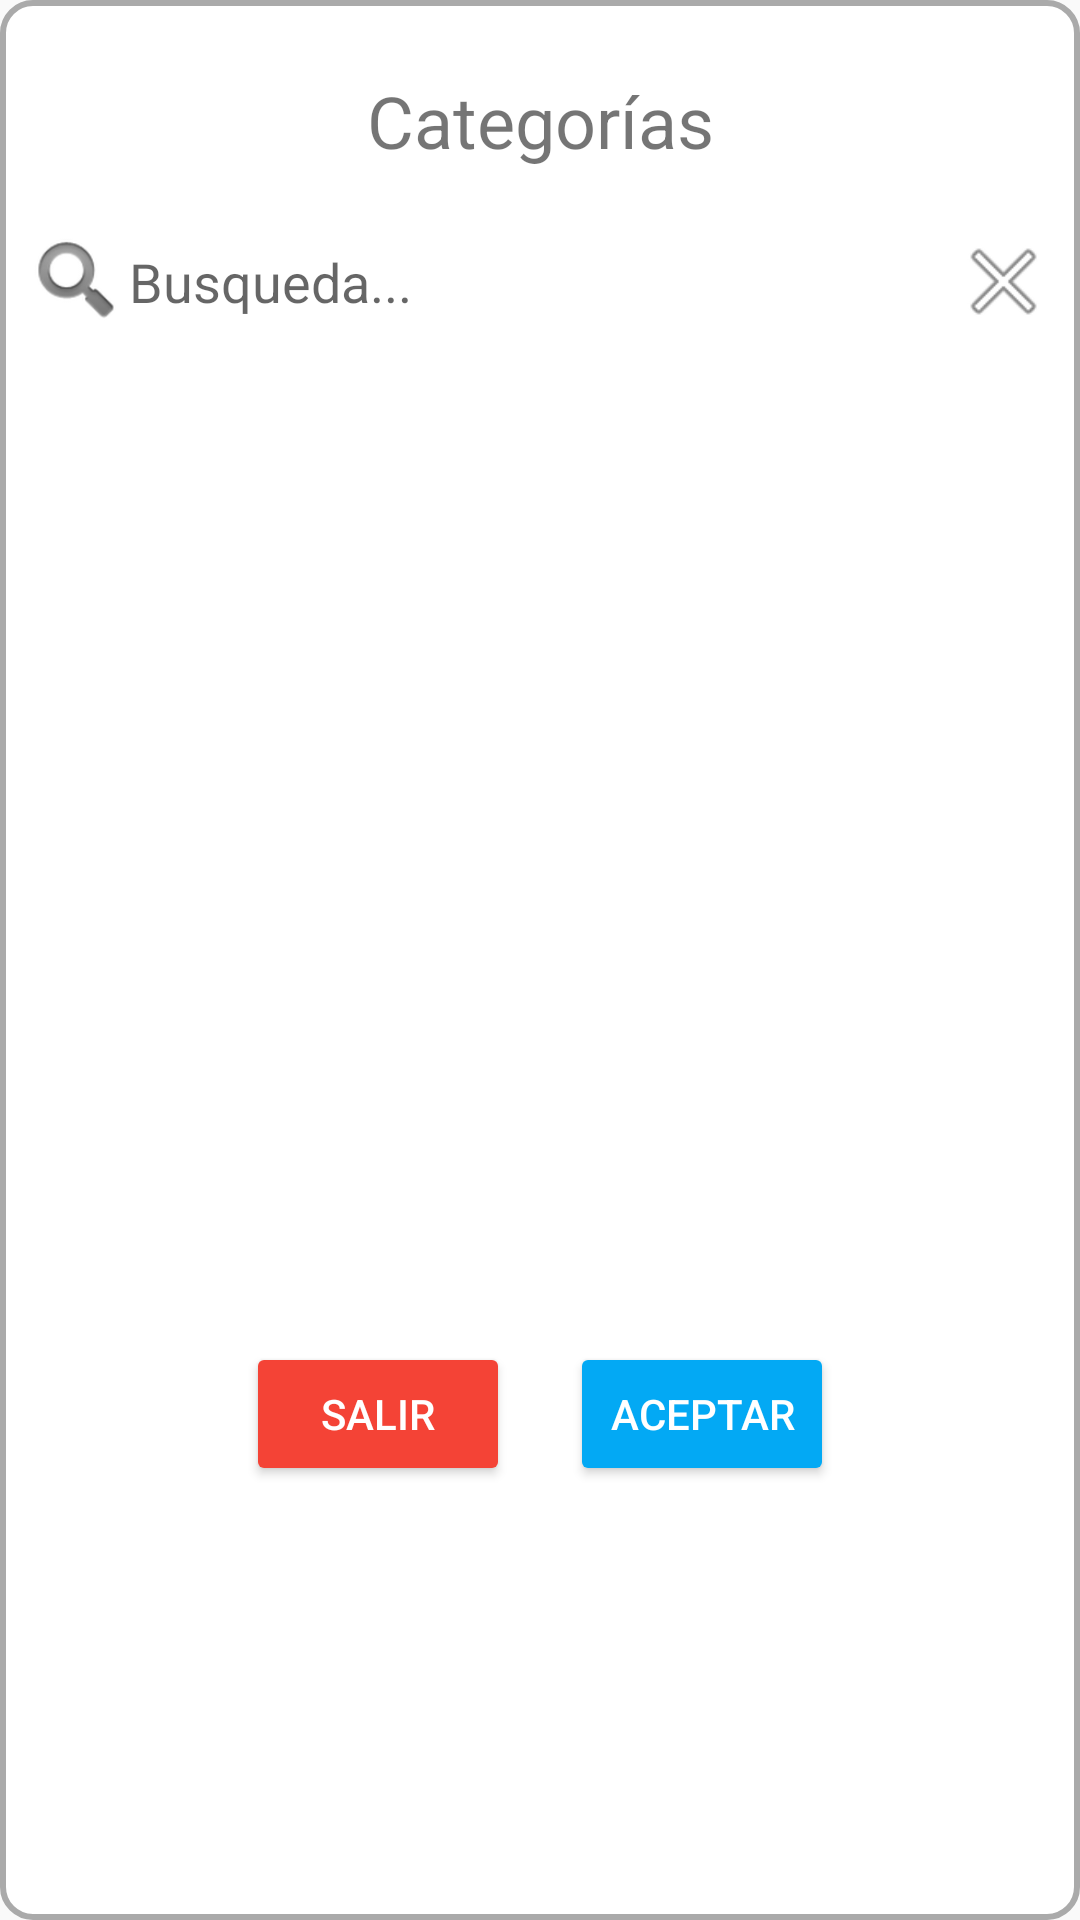

Icons on this 1080w x 1920h Android screen, each with the point to tap as point (x, y):
close clear cancel: point (1003, 281)
search category: point (76, 280)
